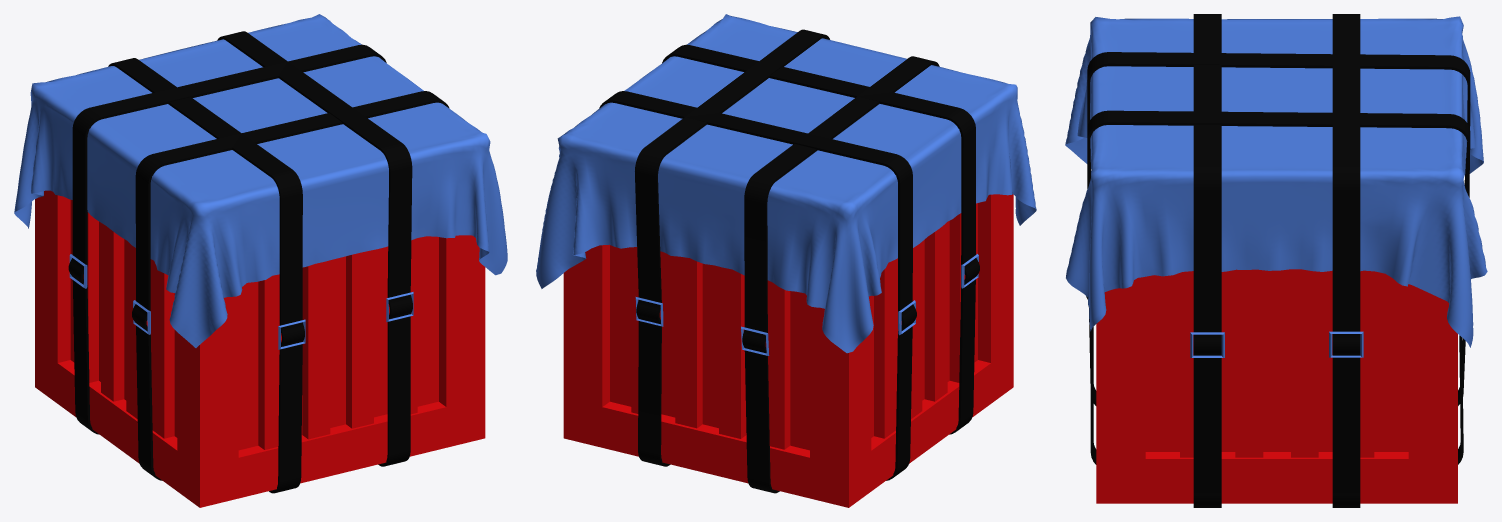
Rendered from Drop.fbx.
The picture shows the model from 3 angles, left to right: view 1: azimuth 30°, elevation 25°; view 2: azimuth 150°, elevation 25°; view 3: azimuth 270°, elevation 25°; orthographic projection. The views are drawn at different scales.
Visible parts, largest first — view 1: 1.001; view 2: 1.001; view 3: 1.001.
Boxes of the visible parts, left/top/right/bottom form: 1.001: left=14, top=14, right=507, bottom=507; 1.001: left=536, top=14, right=1036, bottom=507; 1.001: left=1065, top=14, right=1487, bottom=507.
Bounding box in the file's own units: 29.33 × 26.46 × 29.01.
